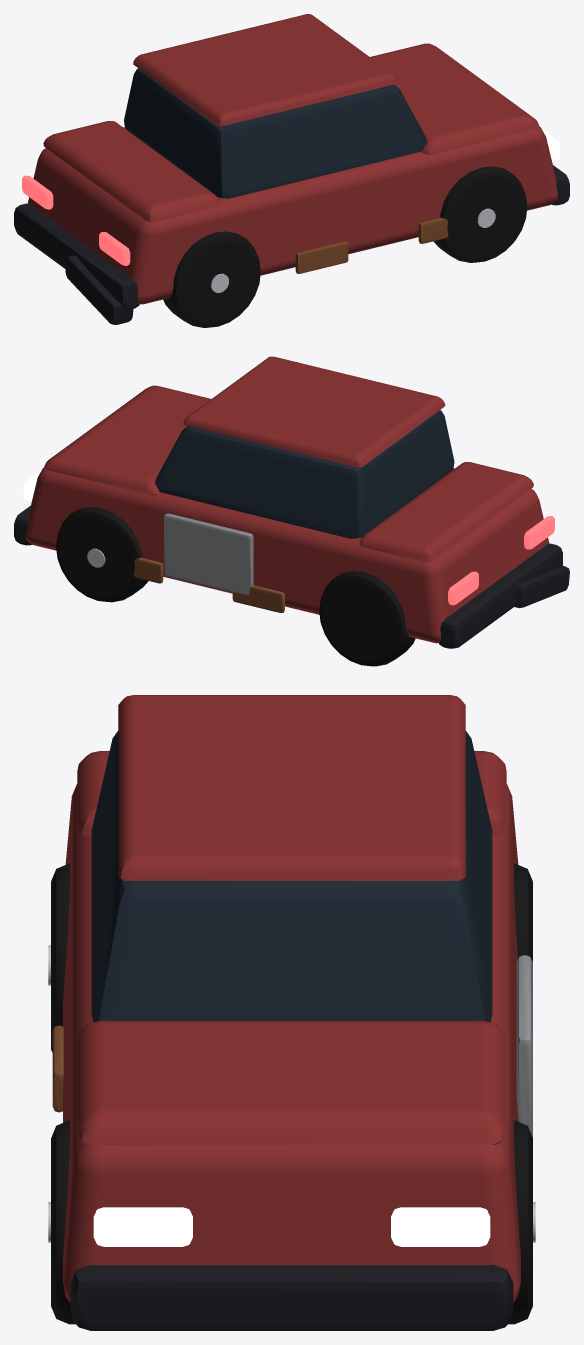
File: beater.glb
The picture shows the model from 3 angles, top to bottom: view 1: azimuth 30°, elevation 25°; view 2: azimuth 150°, elevation 25°; view 3: azimuth 270°, elevation 25°; orthographic projection. The views are drawn at different scales.
Visible parts, largest first — view 1: part-paint, part-glass, wheel--9--1-tyre, wheel-+9--1-tyre, part-trim, part-rust, part-taillight; view 2: part-paint, part-glass, wheel--9-1-tyre, wheel-+9-1-tyre, part-trim, part-primer, part-rust, part-taillight; view 3: part-paint, part-glass, part-trim, headlight-1, headlight--1, wheel-+9-1-tyre, wheel-+9--1-tyre, part-primer, wheel--9--1-tyre, wheel--9-1-tyre, part-rust.
Part boxes in pixels (x1,y1,x2,y2): part-paint: (27, 14, 557, 304); part-glass: (124, 68, 427, 198); wheel--9--1-tyre: (163, 231, 260, 327); wheel-+9--1-tyre: (433, 166, 527, 262); part-trim: (14, 165, 569, 324); part-rust: (295, 217, 448, 273); part-taillight: (22, 175, 130, 265); part-paint: (26, 356, 549, 643); part-glass: (155, 410, 454, 538); wheel--9-1-tyre: (319, 571, 415, 666); wheel-+9-1-tyre: (56, 507, 148, 602); part-trim: (14, 505, 569, 648); part-primer: (164, 513, 253, 595); part-rust: (134, 557, 284, 612); part-taillight: (448, 516, 554, 605); part-paint: (63, 695, 520, 1302); part-glass: (91, 731, 492, 1021); part-trim: (70, 1264, 513, 1330); headlight-1: (391, 1207, 490, 1246); headlight--1: (93, 1207, 192, 1246); wheel-+9-1-tyre: (508, 1120, 532, 1324); wheel-+9--1-tyre: (51, 1120, 75, 1324); part-primer: (516, 955, 532, 1137); wheel--9--1-tyre: (51, 863, 69, 1052); wheel--9-1-tyre: (514, 863, 532, 961); part-rust: (52, 1025, 63, 1112).
Bounding box in the file's own units: 31.7 × 12.9 × 14.74.
